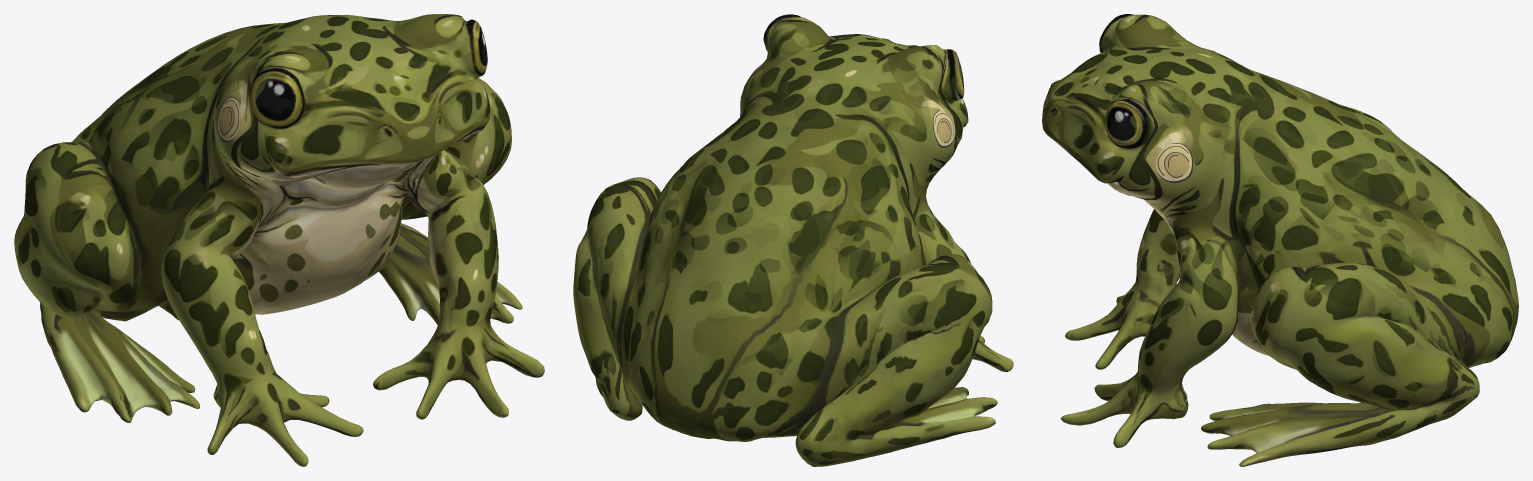
File: frog_Male.glb
3 views of the same model, side by side, from view 1: azimuth 30°, elevation 25°; view 2: azimuth 150°, elevation 25°; view 3: azimuth 270°, elevation 25° (orthographic). The views are drawn at different scales.
Parts seen in each view (by area): view 1: 公青蛙, 公青蛙鳴囊; view 2: 公青蛙, 公青蛙鳴囊; view 3: 公青蛙, 公青蛙鳴囊.
Boxes of the visible parts, x1,y1,x2,y2 form: 公青蛙: (14,14,544,466); 公青蛙鳴囊: (217,97,240,142); 公青蛙: (573,14,1013,466); 公青蛙鳴囊: (749,68,955,147); 公青蛙: (1042,14,1518,466); 公青蛙鳴囊: (1155,143,1192,182).
Size of the model in its own units: 96.87 by 75.5 by 98.08.
Materials: 2 (2 with a texture image).
